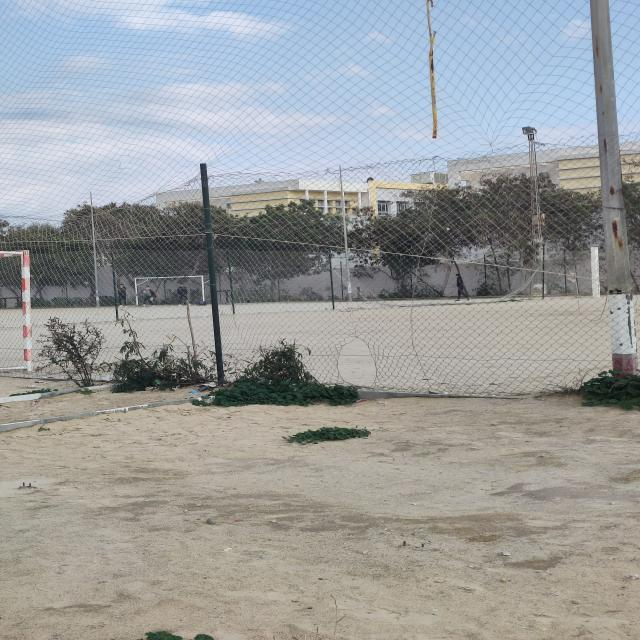fence line: (337, 335, 382, 388)
